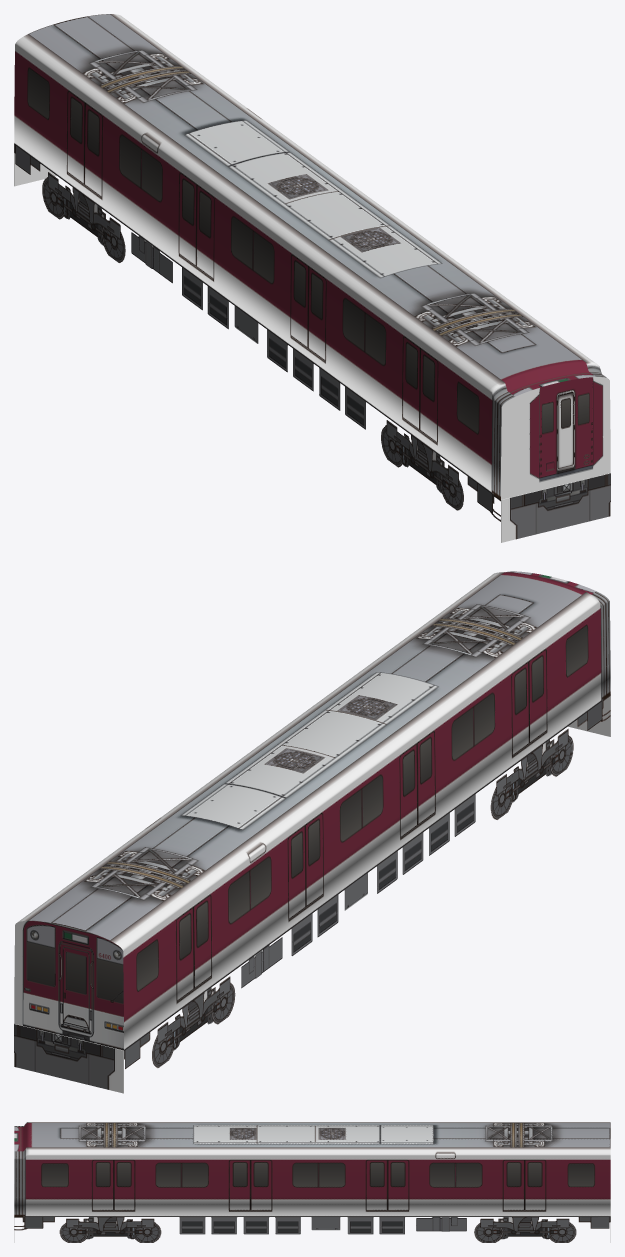
File: car2.glb
3 views of the same model, one above another, from view 1: azimuth 30°, elevation 25°; view 2: azimuth 150°, elevation 25°; view 3: azimuth 270°, elevation 25° (orthographic). The views are drawn at different scales.
Parts seen in each view (by area): view 1: kintetsu-6400-car2; view 2: kintetsu-6400-car2; view 3: kintetsu-6400-car2.
Boxes of the visible parts, bbox=[...] form: kintetsu-6400-car2: bbox=[14, 14, 610, 542]; kintetsu-6400-car2: bbox=[14, 571, 610, 1093]; kintetsu-6400-car2: bbox=[14, 1122, 610, 1242].
Bounding box in the file's own units: 2.8 × 3.73 × 21.53.
8 materials, 7 textured.
